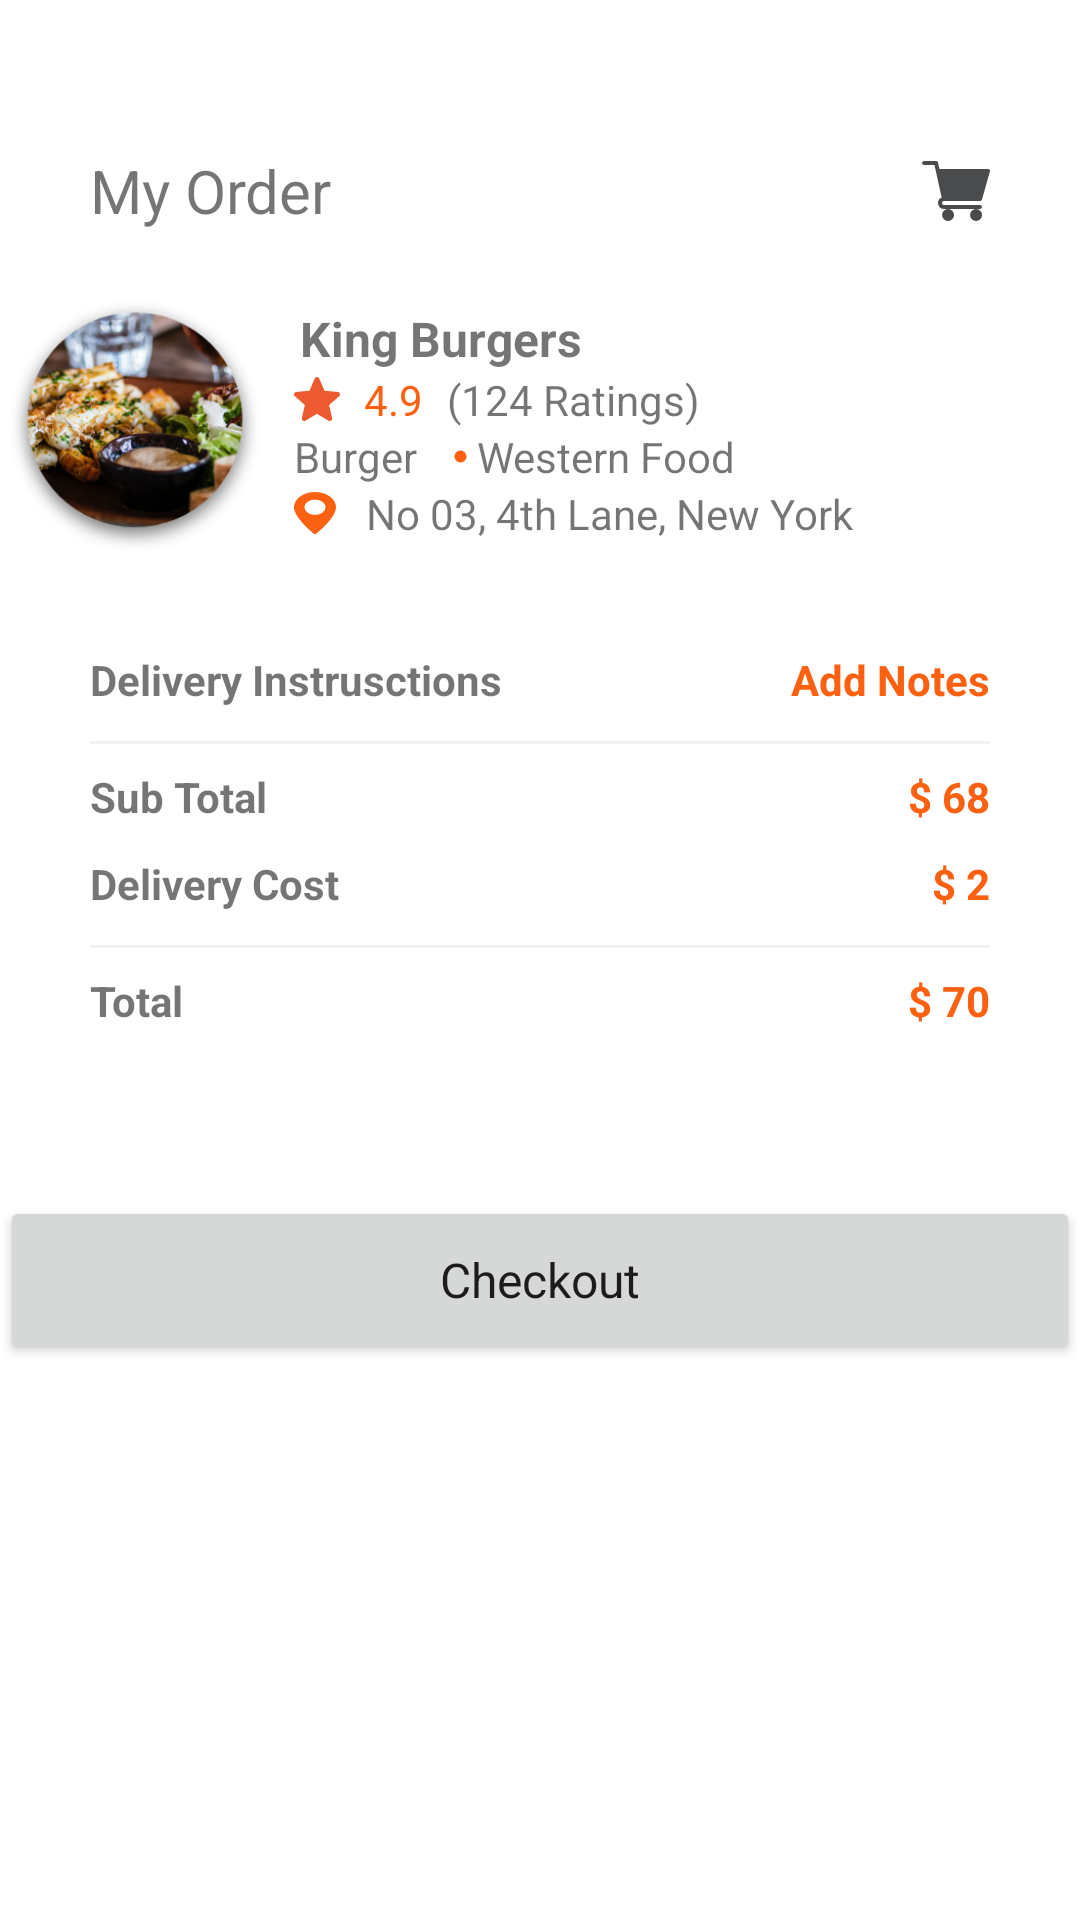

Icons on this 1080w x 1920h Android screen, each with the point to tap as (x,y):
shopping cart: (956,191)
